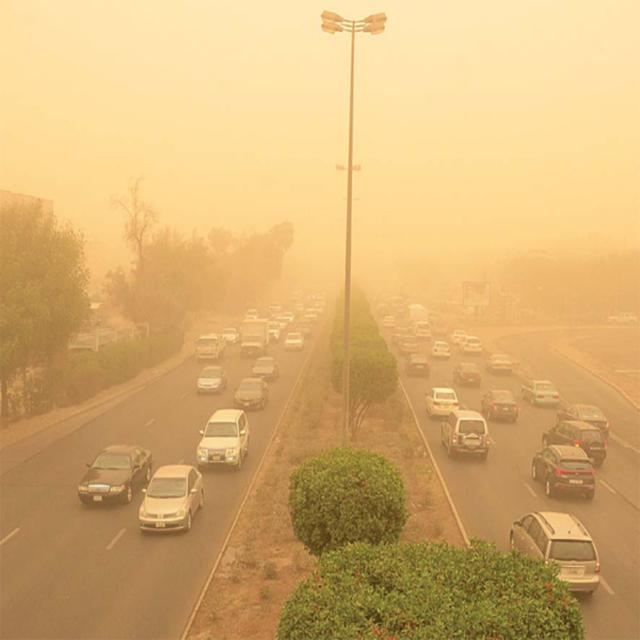bus: (240, 321, 268, 356), (194, 336, 225, 360), (406, 305, 422, 330)
car: (508, 509, 602, 597), (138, 462, 206, 534), (78, 443, 153, 507), (532, 441, 596, 501), (554, 408, 610, 469), (198, 409, 252, 468), (443, 410, 491, 459), (484, 388, 520, 424), (424, 387, 460, 419), (234, 378, 268, 411), (524, 379, 560, 407), (196, 365, 225, 394), (250, 354, 278, 382), (454, 364, 480, 386), (485, 354, 511, 375), (403, 354, 427, 375), (459, 336, 481, 354), (283, 333, 305, 350), (397, 335, 417, 353), (430, 342, 450, 357), (411, 322, 431, 337), (221, 326, 237, 344), (294, 321, 312, 336), (268, 321, 280, 343), (390, 327, 404, 343), (447, 330, 463, 342), (280, 312, 294, 323), (243, 310, 259, 319), (382, 316, 394, 327), (268, 302, 280, 313)
